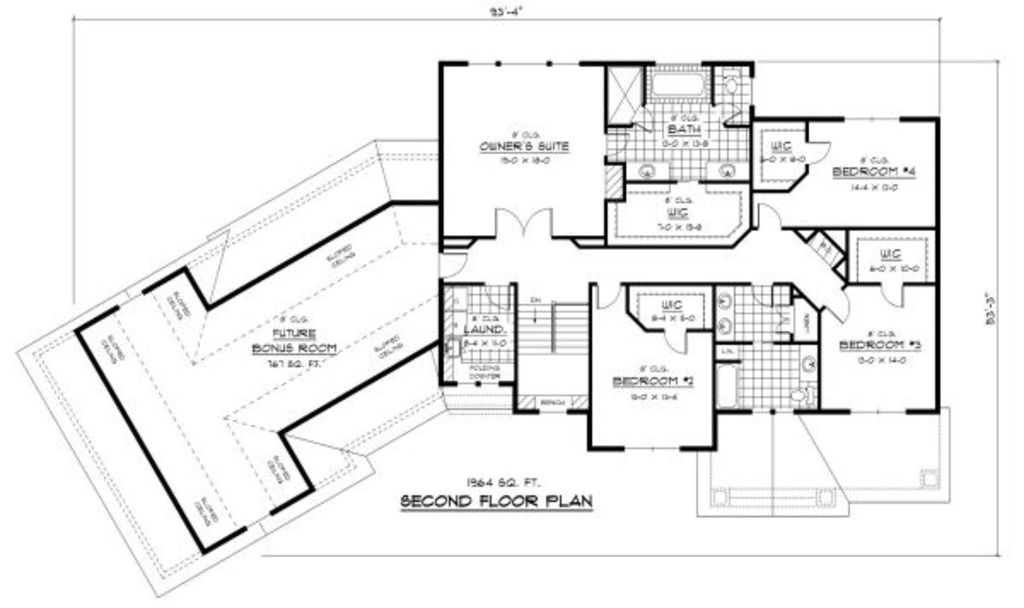door: (491, 208, 557, 241), (437, 249, 471, 280), (823, 285, 850, 323), (593, 279, 623, 311), (756, 201, 786, 231), (663, 325, 689, 357), (802, 140, 833, 166), (881, 282, 903, 308)
large_sink: (719, 65, 748, 97)
small_sink: (622, 160, 673, 186), (704, 157, 748, 183), (716, 287, 736, 338), (799, 344, 821, 386)
stairs: (510, 295, 593, 418)
tub: (644, 67, 712, 106)
windows: (462, 59, 585, 73), (841, 403, 908, 420), (618, 442, 684, 455), (834, 114, 901, 125)
